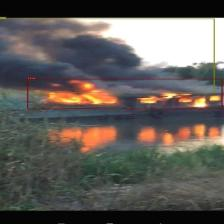fire: (27, 79, 222, 109)
smoke: (0, 19, 215, 92)
